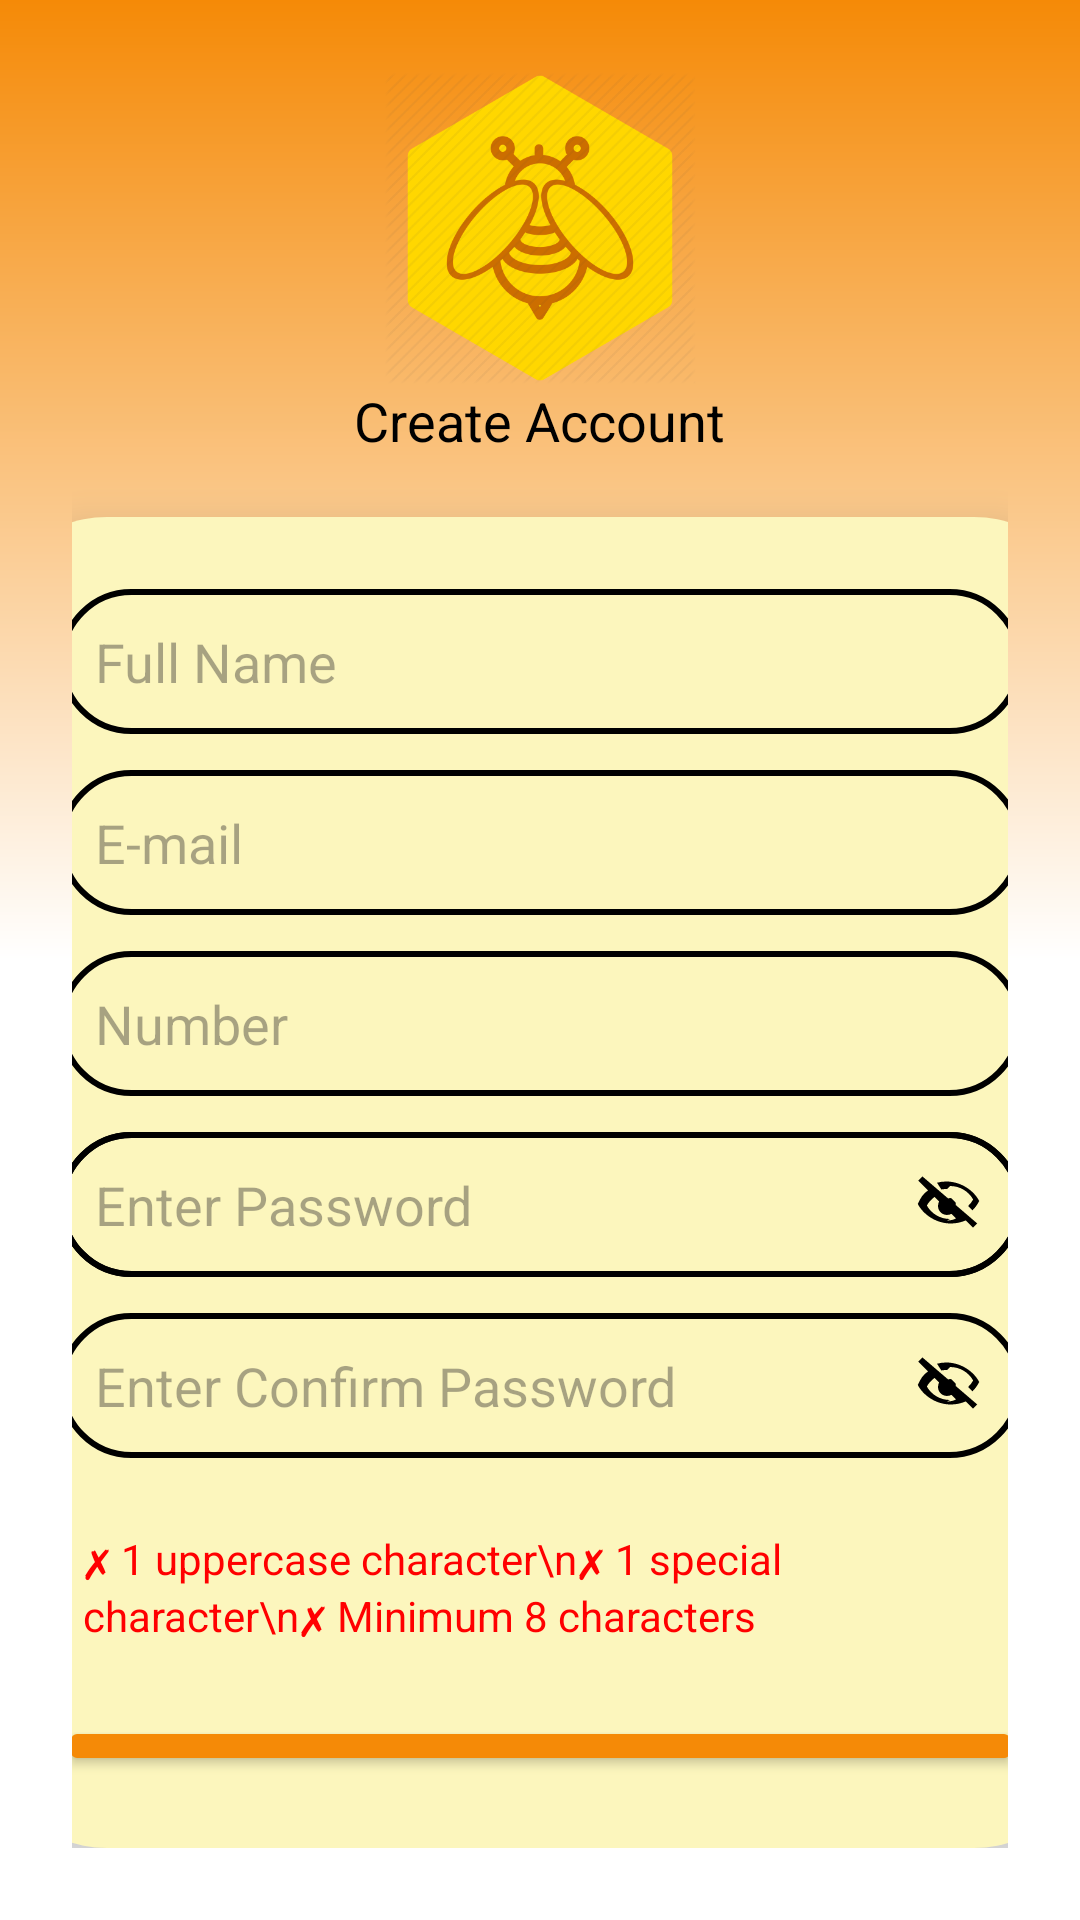

Icon bounding boxes for this 1080x1920 phone screenshot, format (x1, y1, x2, y2):
Toggle password visibility: (918, 1176, 979, 1228), (918, 1357, 979, 1409)
